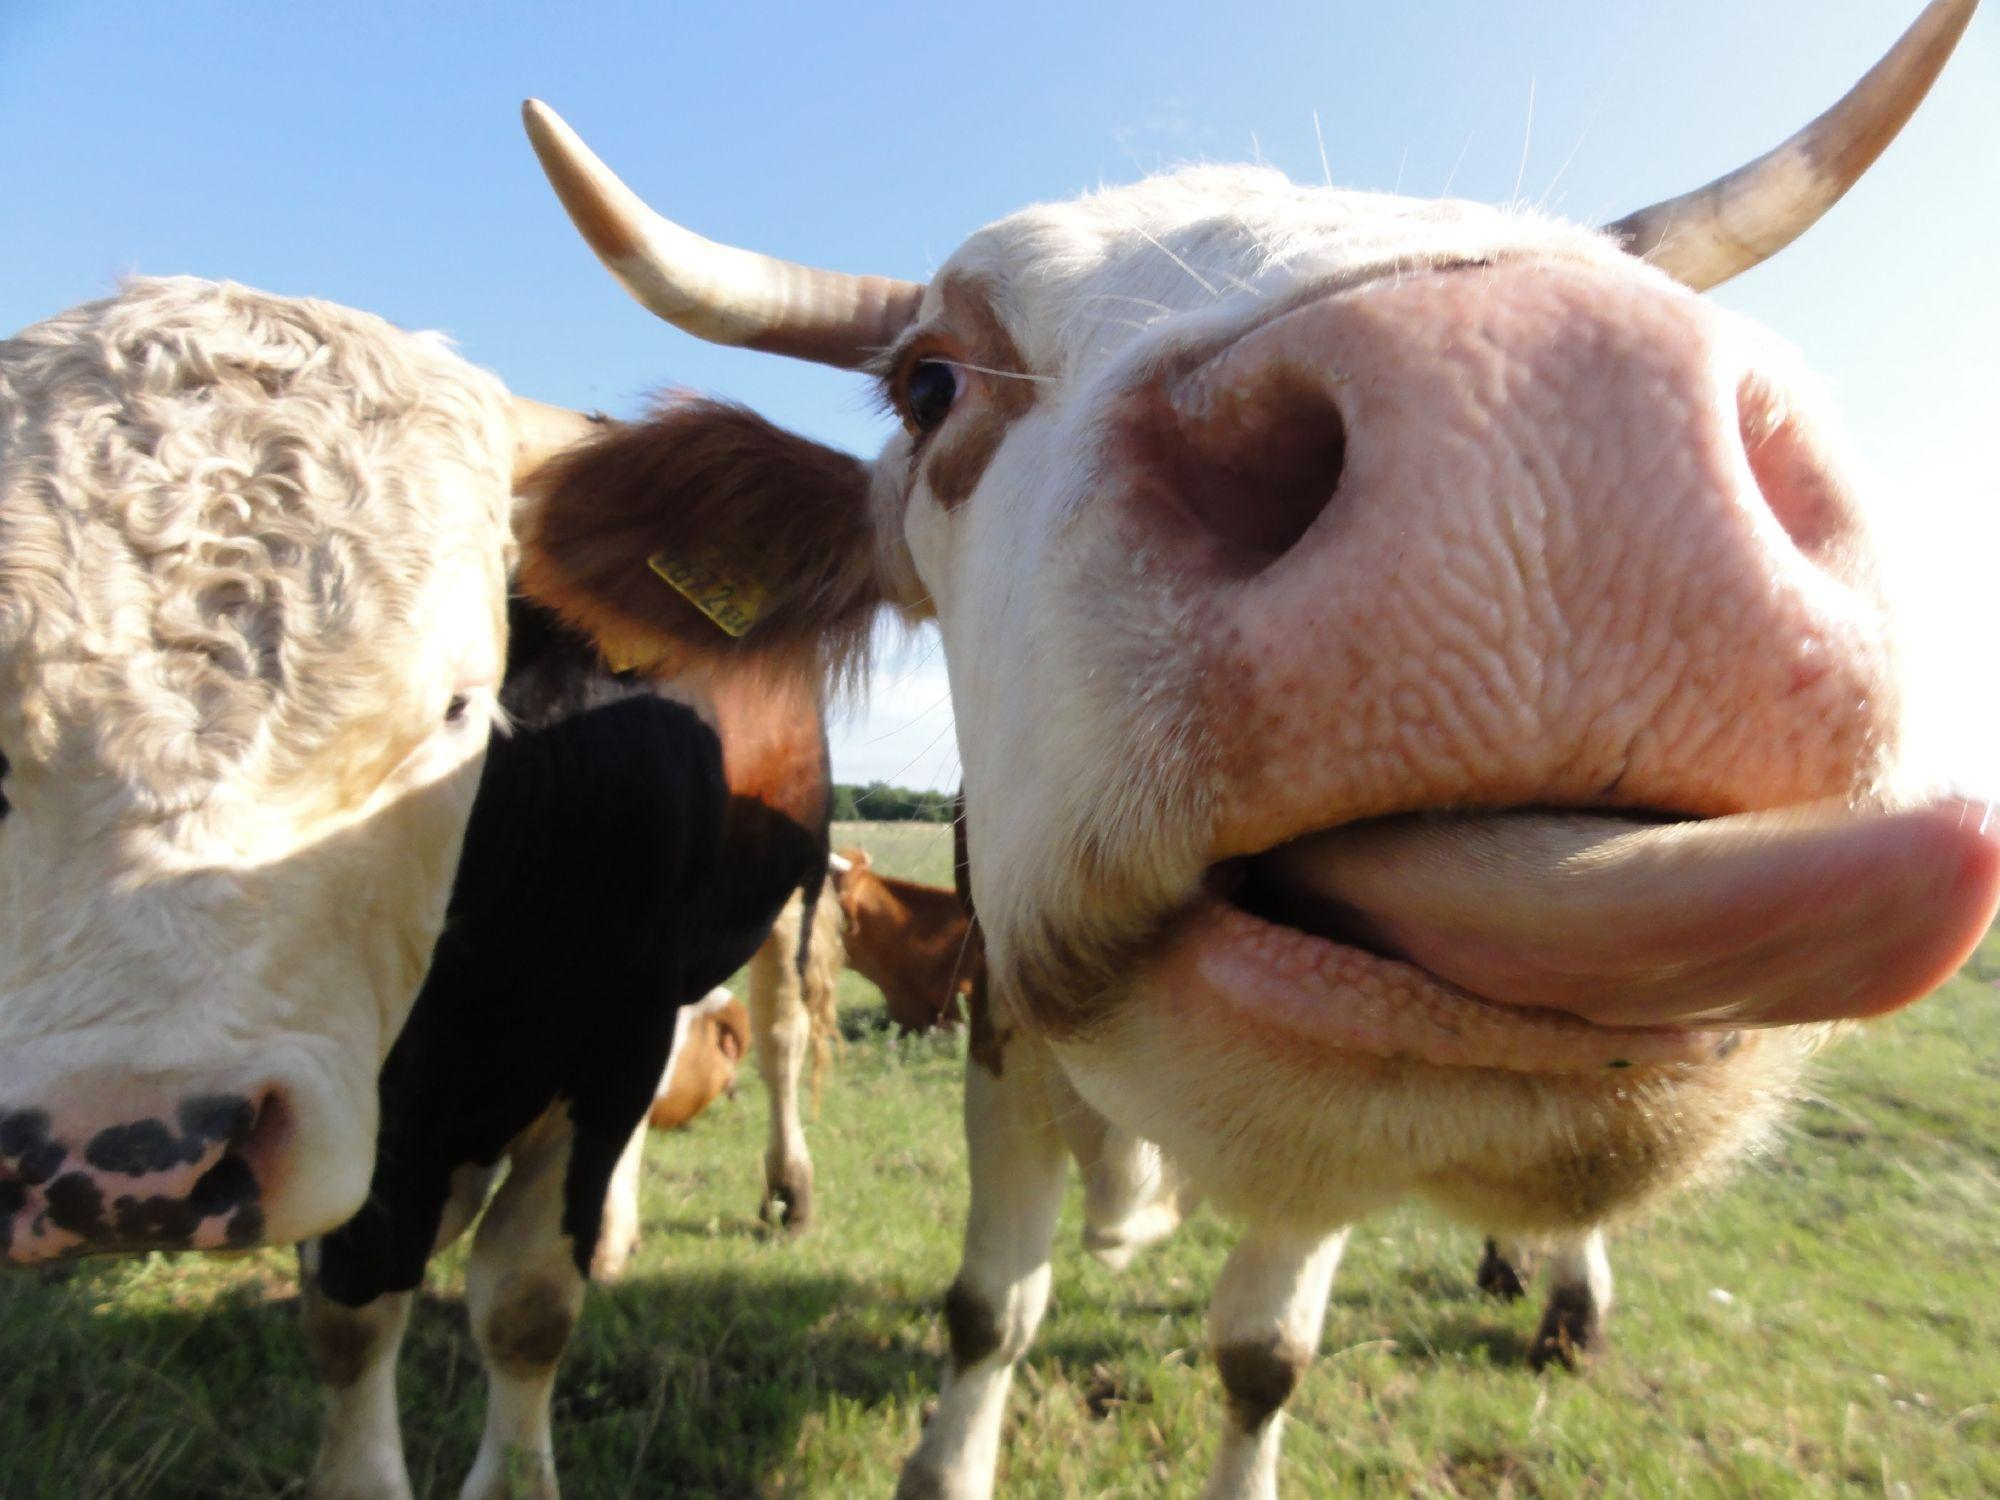muzzles: (799, 190, 2000, 1282)
